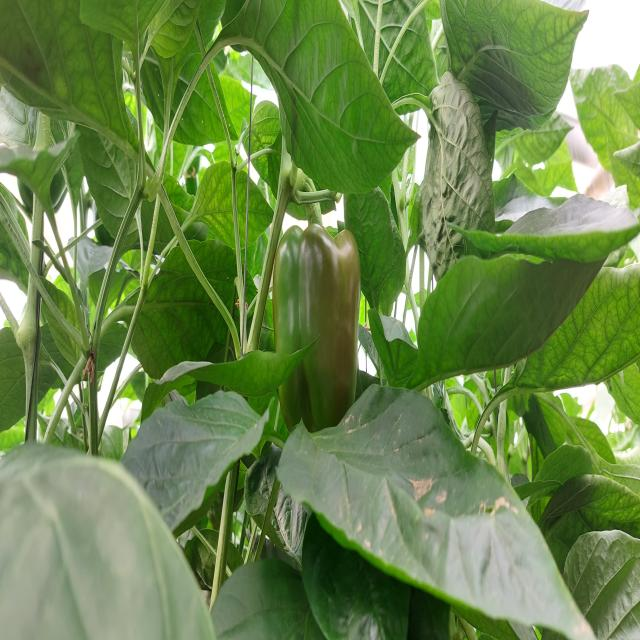BrownishRed--Can-be-Harvested: (268, 216, 364, 444)
